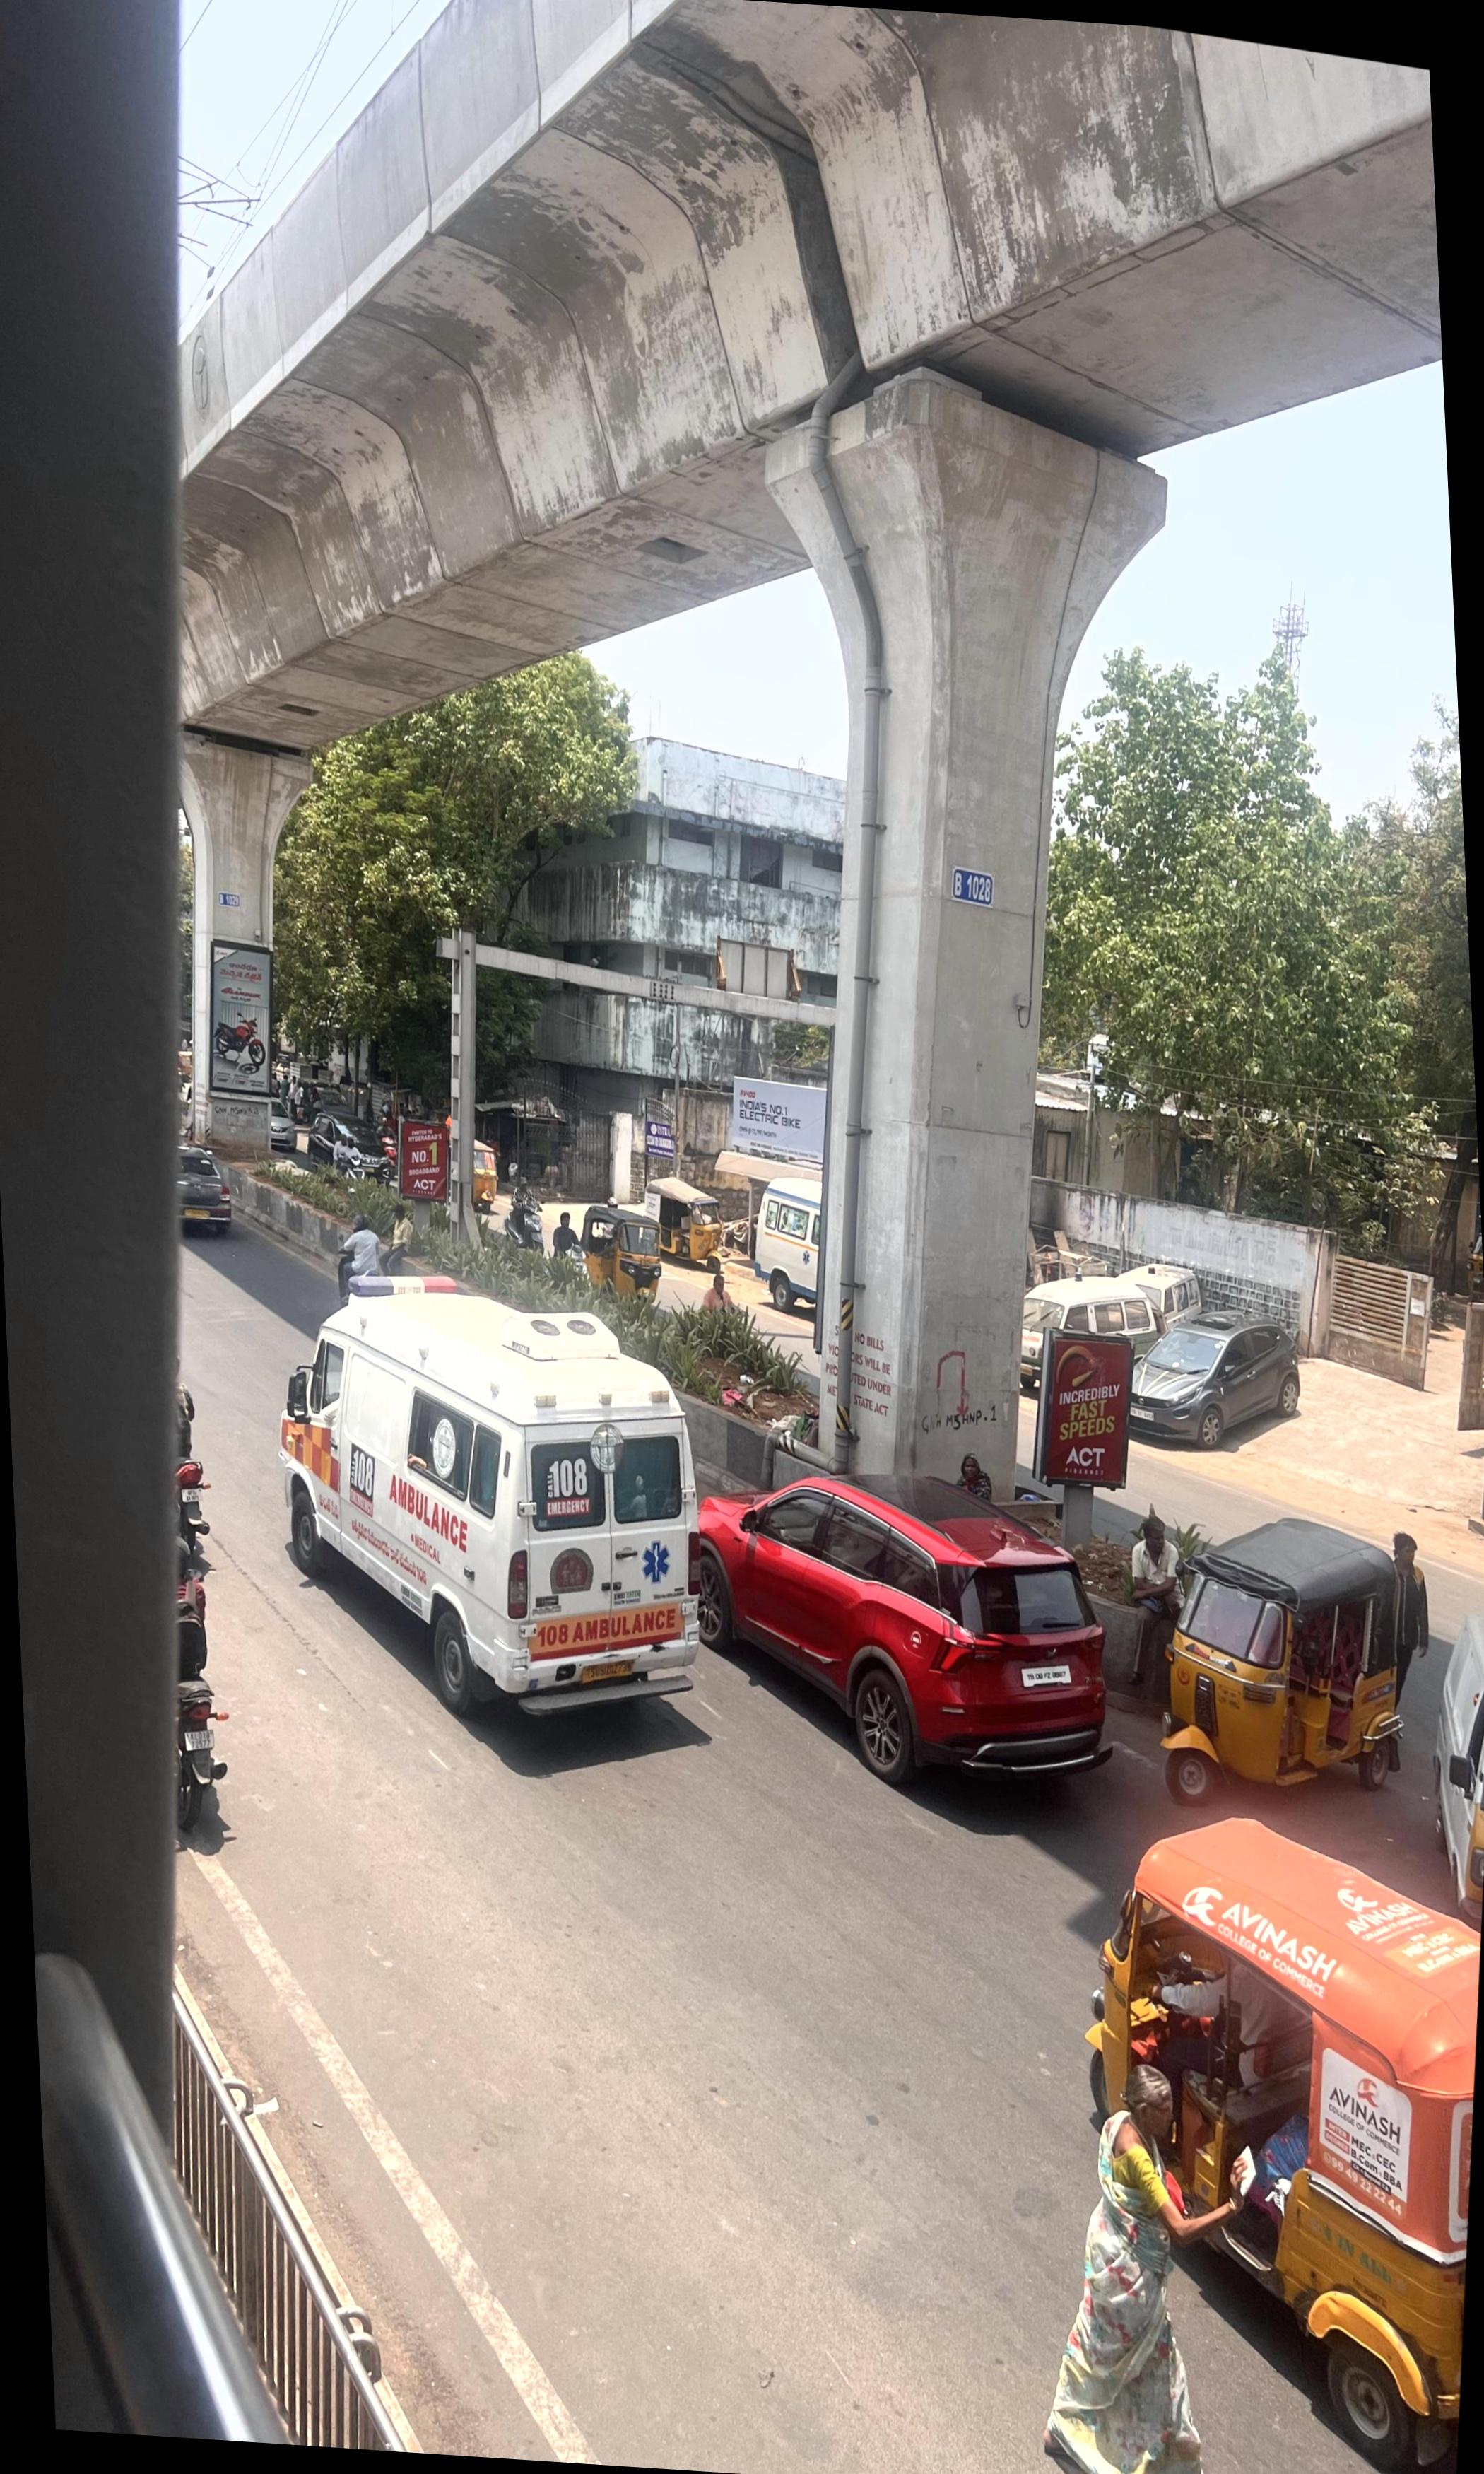ambulance: (279, 1274, 701, 1714)
